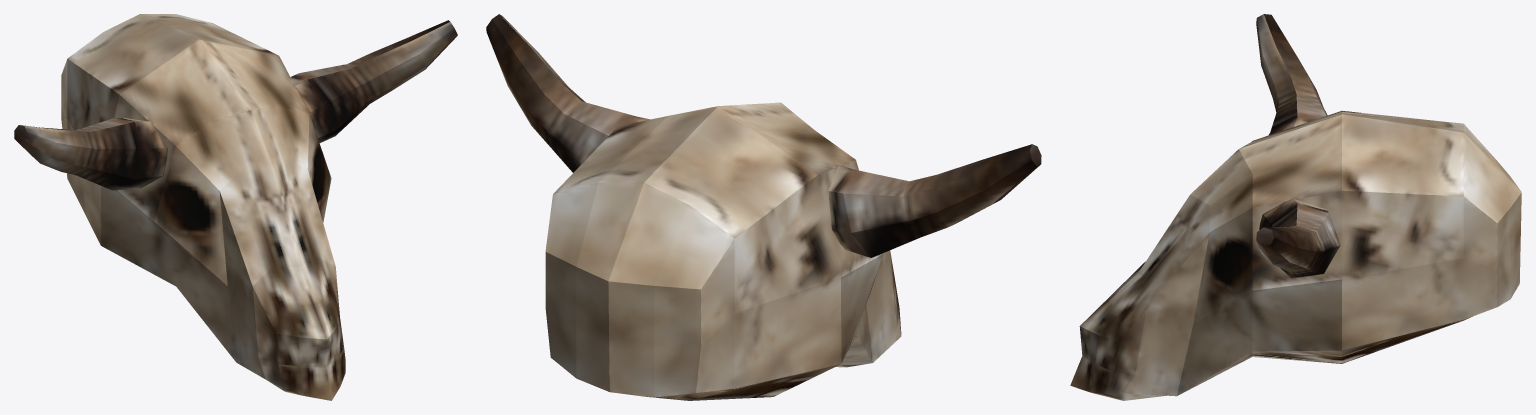
The model's file is WildSkull.fbx.
3 renders of one model, left to right at view 1: azimuth 30°, elevation 25°; view 2: azimuth 150°, elevation 25°; view 3: azimuth 270°, elevation 25°, orthographic. The views are drawn at different scales.
Parts seen in each view (by area): view 1: Skull; view 2: Skull; view 3: Skull.
Boxes of the visible parts, x1,y1,x2,y2 form: Skull: [14, 14, 457, 400]; Skull: [486, 14, 1041, 400]; Skull: [1070, 14, 1521, 400].
Bounding box in the file's own units: 192 × 115 × 166.
